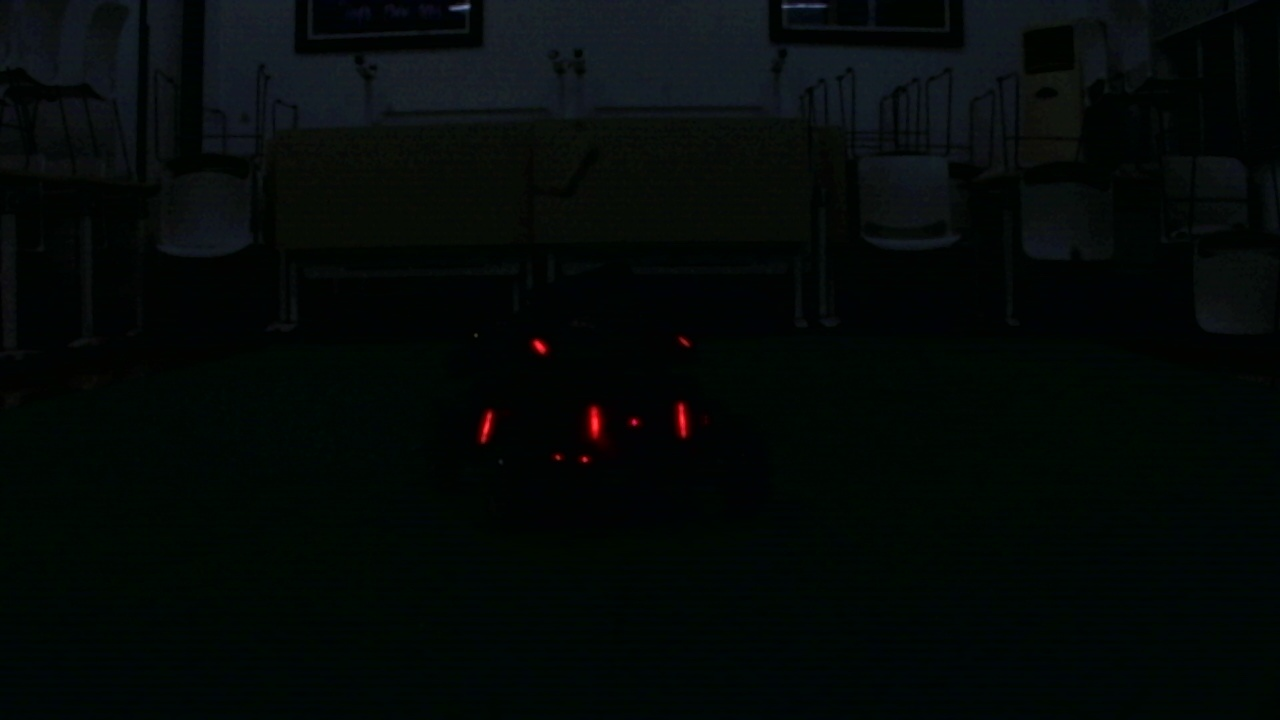lamp: (586, 401, 604, 436), (478, 408, 495, 445), (675, 396, 689, 440)
pair1: (588, 405, 688, 438)
